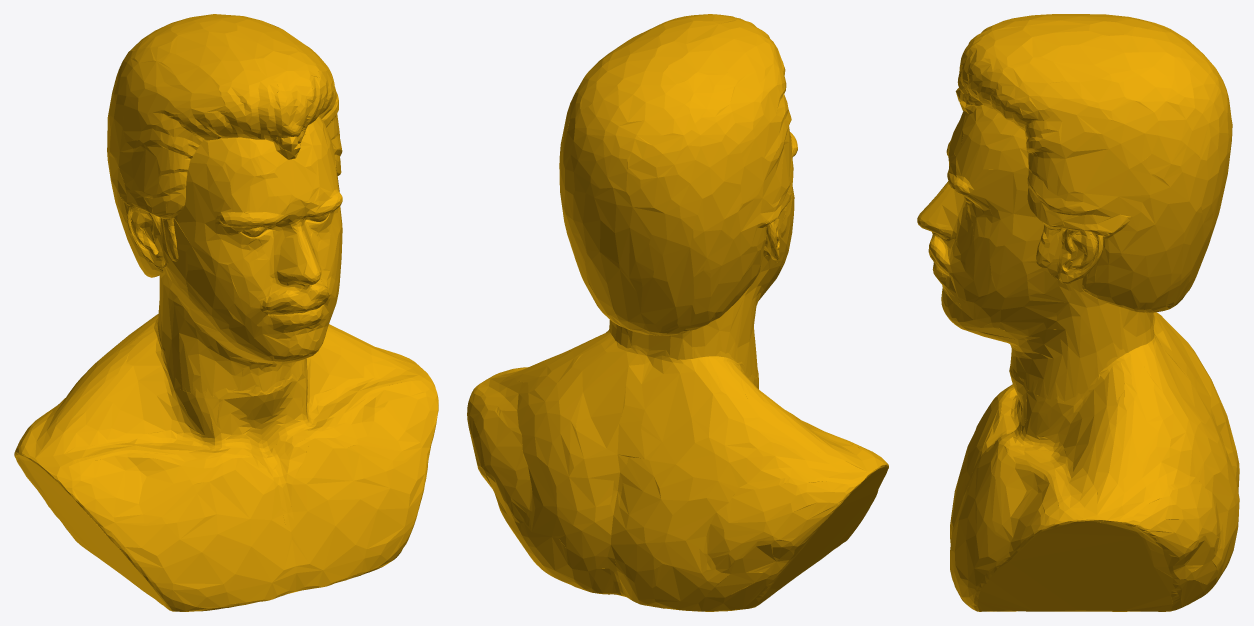
Rendered from federico.glb.
The picture shows the model from 3 angles, left to right: view 1: azimuth 30°, elevation 25°; view 2: azimuth 150°, elevation 25°; view 3: azimuth 270°, elevation 25°; orthographic projection. The views are drawn at different scales.
Parts seen in each view (by area): view 1: Federico 3Dless Com Simplified; view 2: Federico 3Dless Com Simplified; view 3: Federico 3Dless Com Simplified.
Boxes of the visible parts, x1,y1,x2,y2 form: Federico 3Dless Com Simplified: (14,14,438,611); Federico 3Dless Com Simplified: (467,14,888,611); Federico 3Dless Com Simplified: (917,14,1239,611).
Size of the model in its own units: 1.84 by 2.32 by 1.28.
